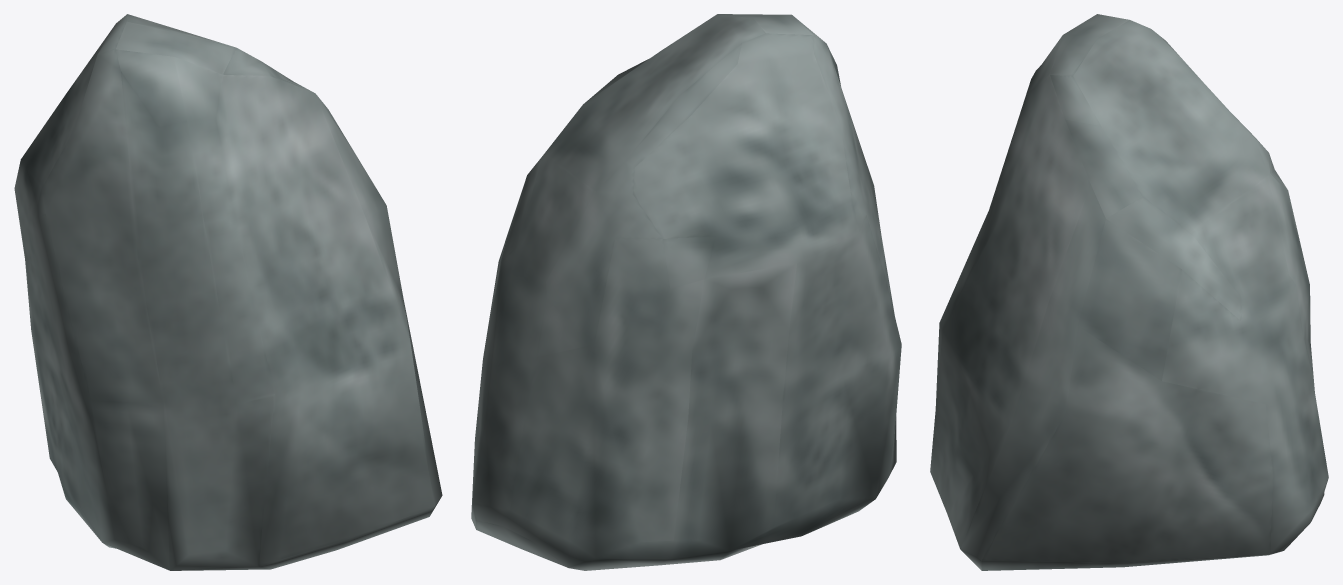
The model's file is rock2.fbx.
3 renders of one model, left to right at view 1: azimuth 30°, elevation 25°; view 2: azimuth 150°, elevation 25°; view 3: azimuth 270°, elevation 25°, orthographic. The views are drawn at different scales.
Parts seen in each view (by area): view 1: rock2_lowpoly; view 2: rock2_lowpoly; view 3: rock2_lowpoly.
Boxes of the visible parts, bbox=[...] form: rock2_lowpoly: bbox=[14, 14, 442, 570]; rock2_lowpoly: bbox=[471, 14, 901, 570]; rock2_lowpoly: bbox=[930, 14, 1328, 570].
Bounding box in the file's own units: 1.16 × 1.61 × 1.29.
